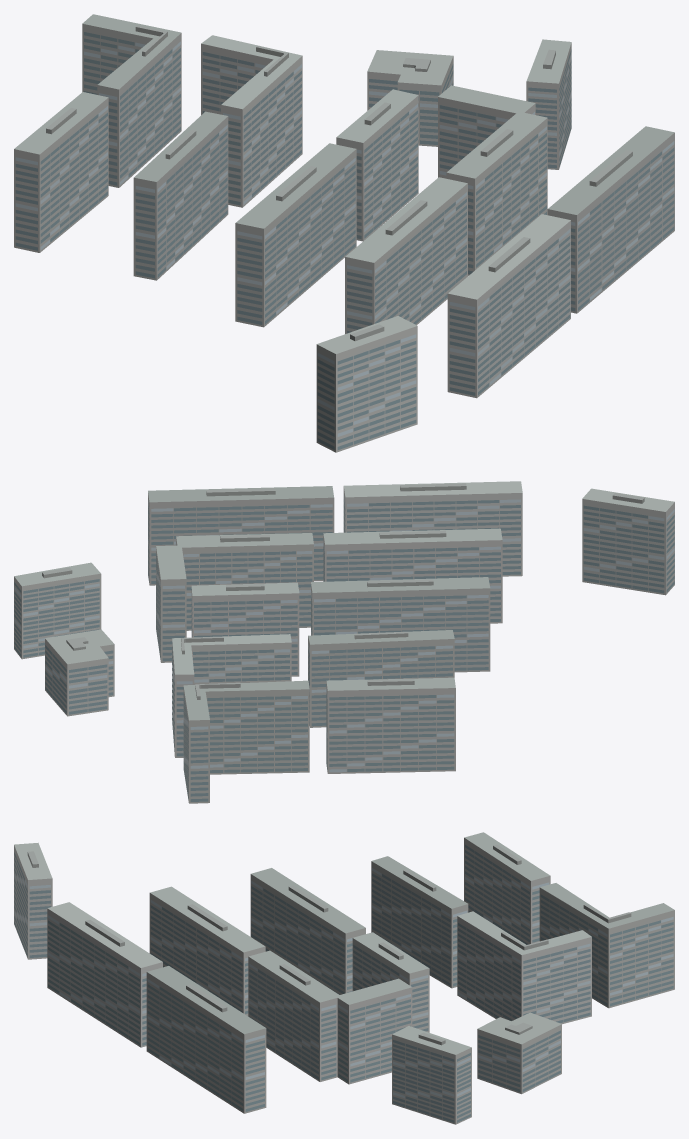
File: apt-a13792001.glb
3 views of the same model, one above another, from view 1: azimuth 30°, elevation 25°; view 2: azimuth 150°, elevation 25°; view 3: azimuth 270°, elevation 25° (orthographic). The views are drawn at different scales.
Parts seen in each view (by area): view 1: apt-a13792001; view 2: apt-a13792001; view 3: apt-a13792001.
Part boxes in pixels (left/top/right/bottom): apt-a13792001: left=14, top=14, right=674, bottom=452; apt-a13792001: left=14, top=481, right=674, bottom=803; apt-a13792001: left=14, top=832, right=674, bottom=1124.
Bounding box in the file's own units: 262 × 47.81 × 344.
